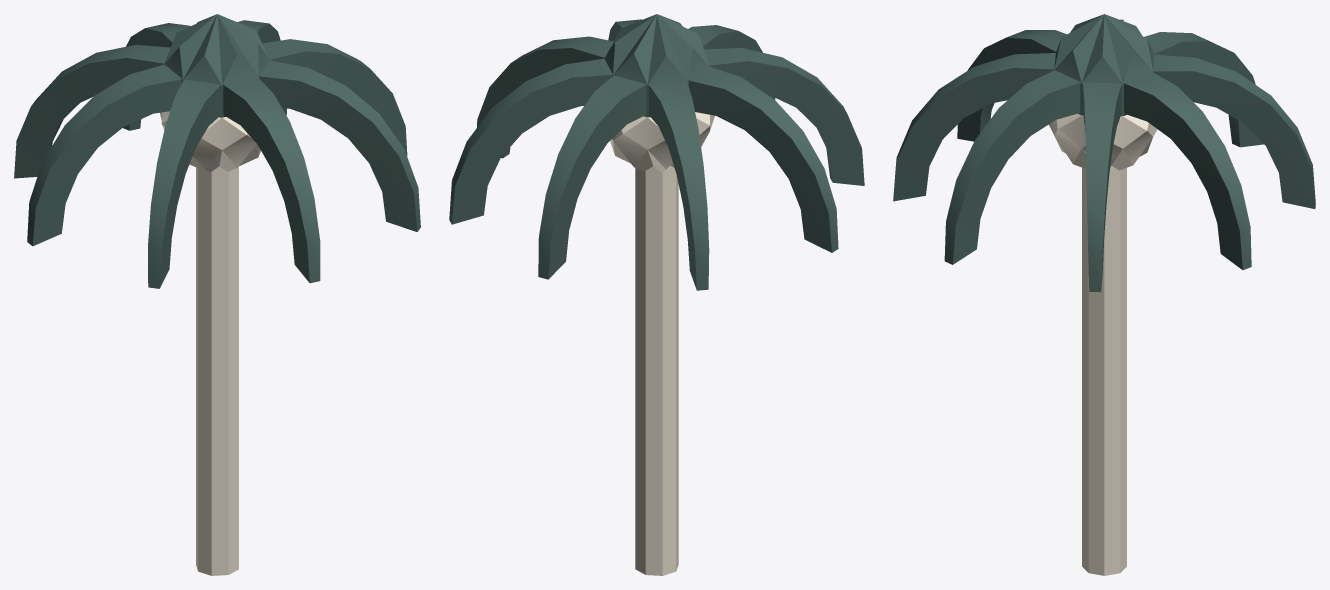
The model's file is palm_1.fbx.
The picture shows the model from 3 angles, left to right: view 1: azimuth 30°, elevation 25°; view 2: azimuth 150°, elevation 25°; view 3: azimuth 270°, elevation 25°; orthographic projection.
Visible parts, largest first — view 1: palm_1; view 2: palm_1; view 3: palm_1.
Part boxes in pixels (left/top/right/bottom): palm_1: left=14, top=14, right=420, bottom=575; palm_1: left=449, top=14, right=864, bottom=575; palm_1: left=893, top=14, right=1315, bottom=575.
Size of the model in its own units: 189 by 273 by 189.
